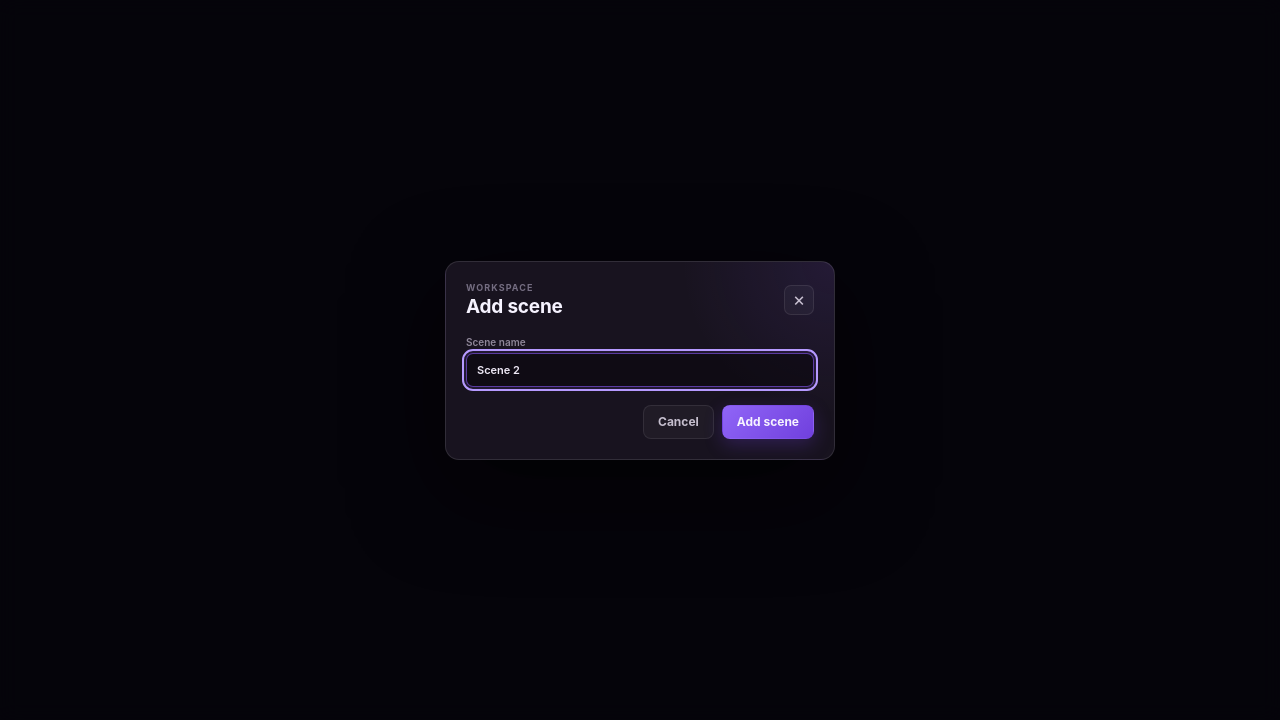
Test: SceneModal › rejects a case-insensitive duplicate scene name
The image size is (1280, 720).
Replace the text in the field labelled "Scene name" with " main " at x=640, y=370, box [466, 352, 814, 386]
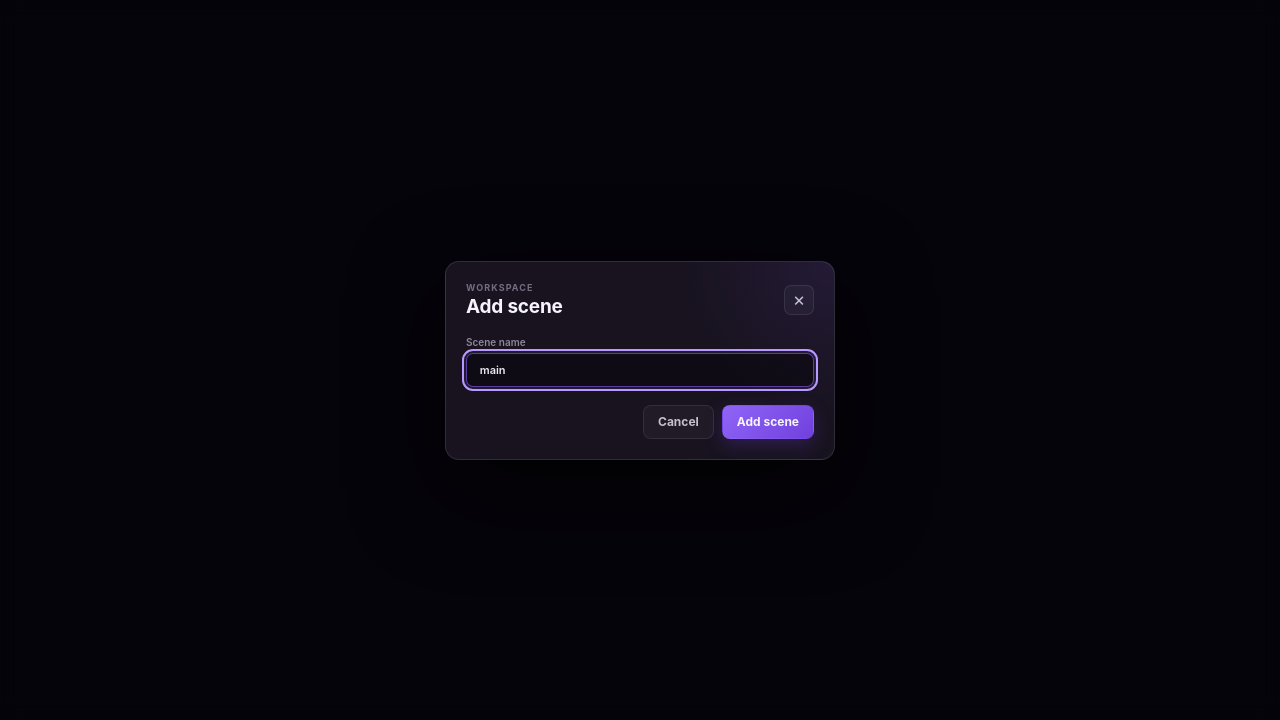
Click the button "Add scene".
click(768, 422)  # box [722, 404, 814, 438]
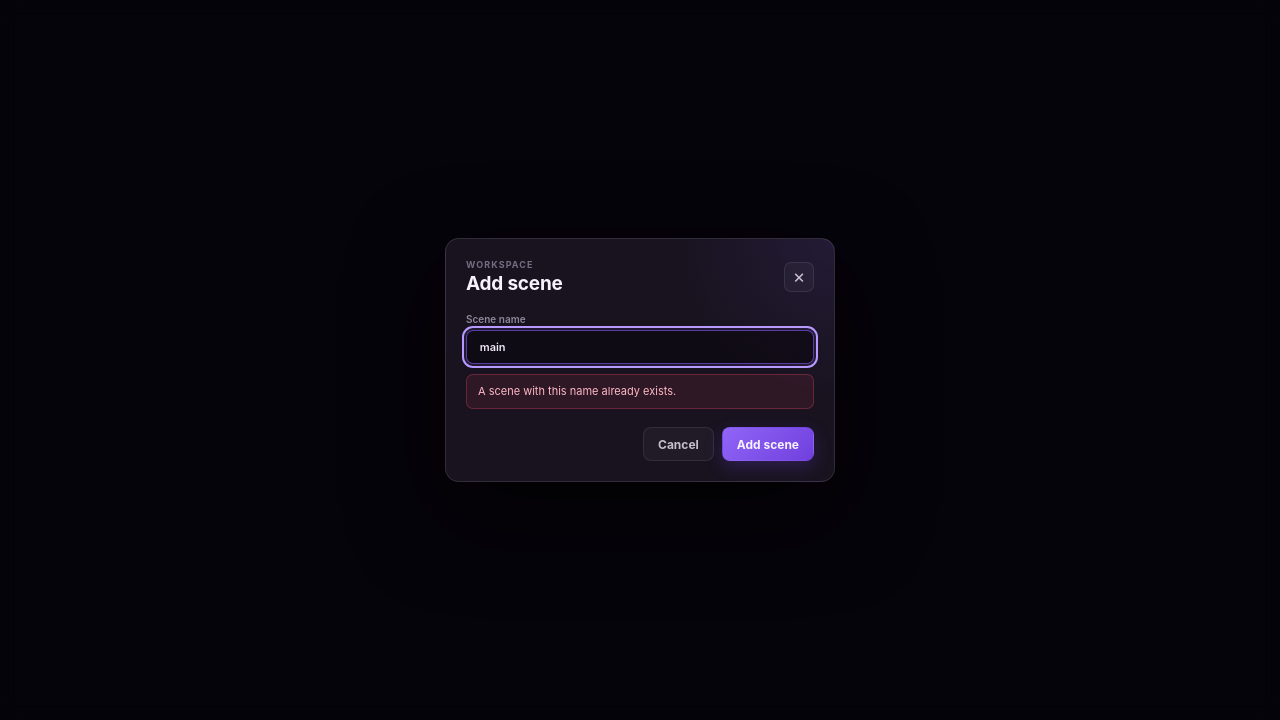
Expected: the text "A scene with this name already exists." is shown, [466, 374, 814, 409]
